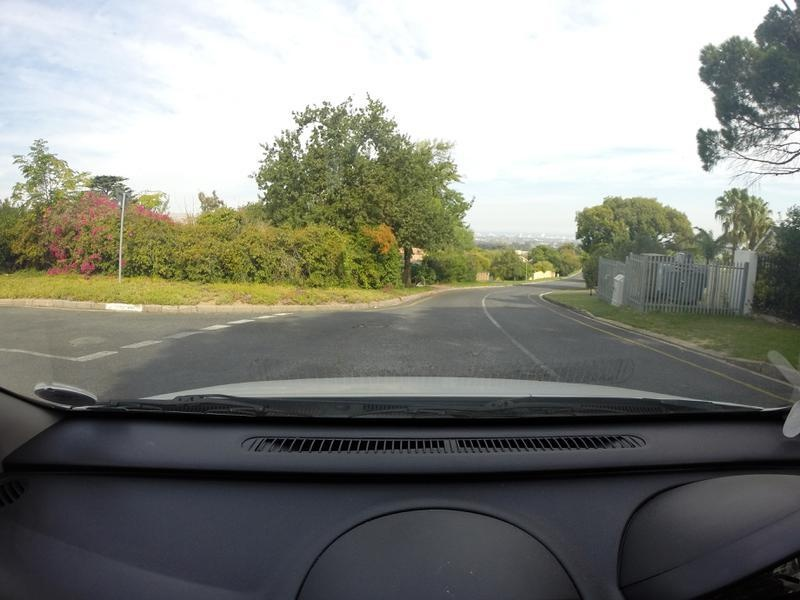pothole: (357, 320, 387, 327)
